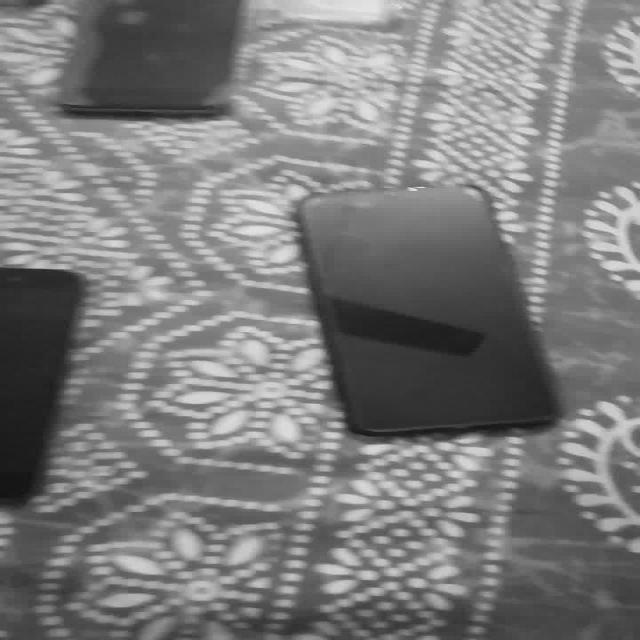fake: (298, 182, 565, 444), (58, 5, 248, 114), (0, 264, 90, 490)
